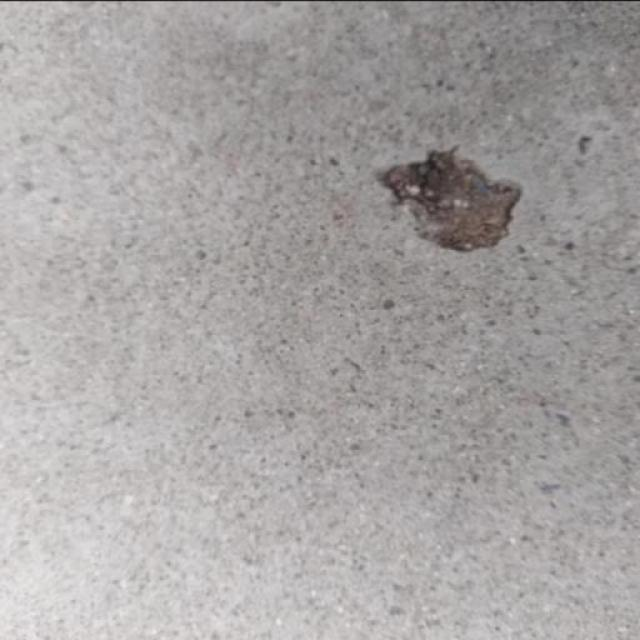D10: (378, 146, 520, 251)
